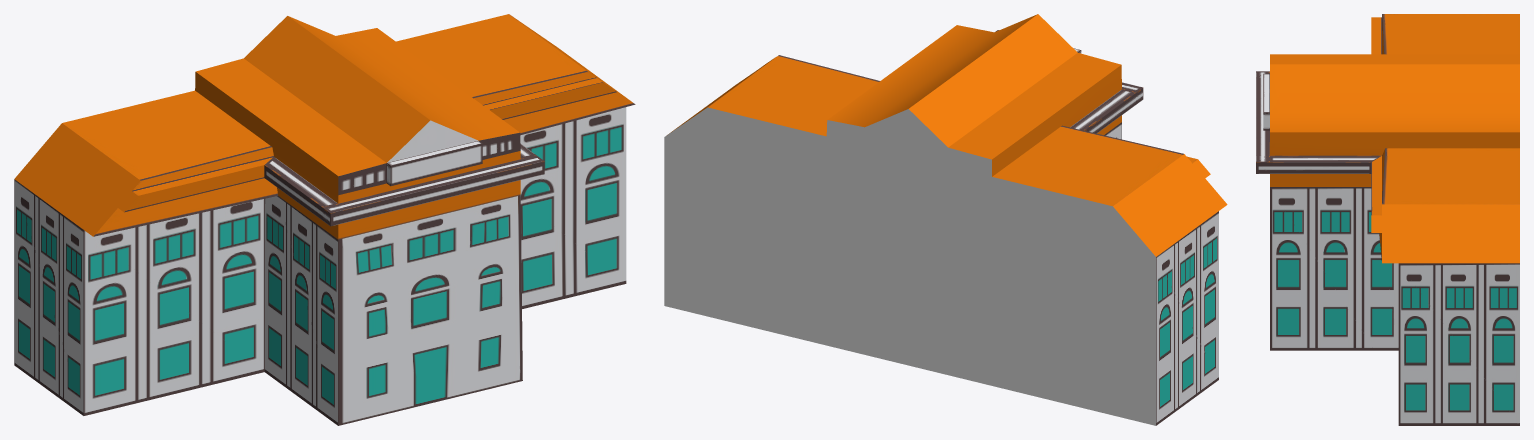
Rendered from Panish.fbx.
The picture shows the model from 3 angles, left to right: view 1: azimuth 30°, elevation 25°; view 2: azimuth 150°, elevation 25°; view 3: azimuth 270°, elevation 25°; orthographic projection. The views are drawn at different scales.
Visible parts, largest first — view 1: polySurface5; view 2: polySurface5; view 3: polySurface5.
Part boxes in pixels (bbox=[...]): polySurface5: bbox=[14, 14, 635, 425]; polySurface5: bbox=[664, 14, 1227, 425]; polySurface5: bbox=[1256, 14, 1519, 425].
Size of the model in its own units: 6.09 by 3.04 by 2.94.
